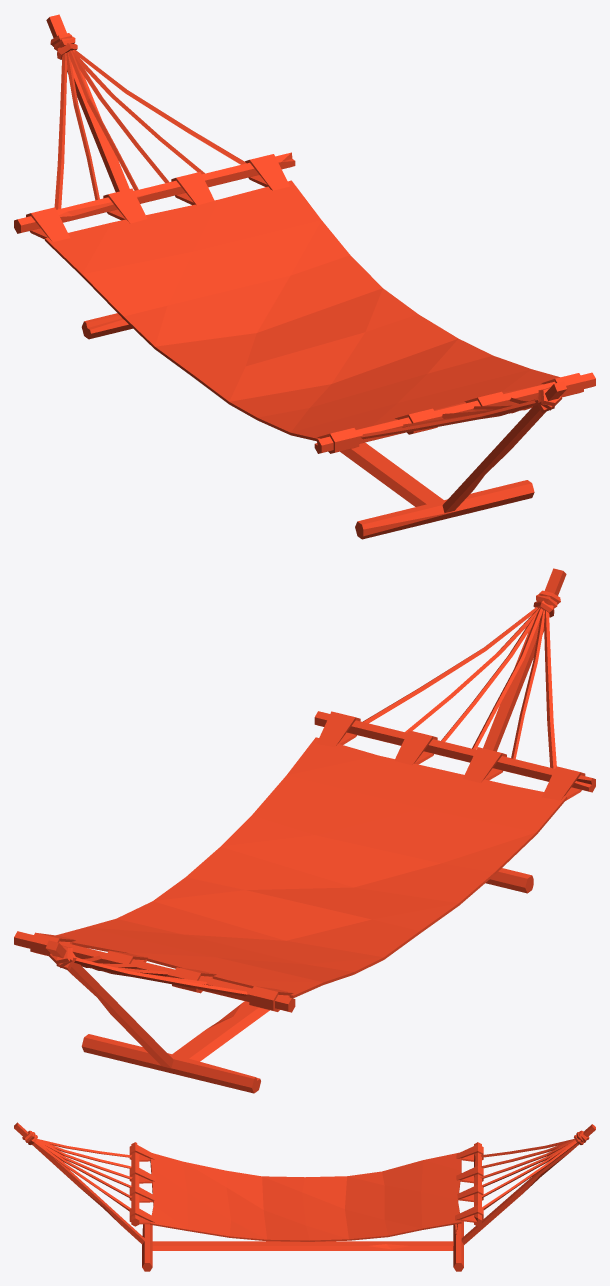
File: SM_Lounger_A_City.fbx
The picture shows the model from 3 angles, top to bottom: view 1: azimuth 30°, elevation 25°; view 2: azimuth 150°, elevation 25°; view 3: azimuth 270°, elevation 25°; orthographic projection. The views are drawn at different scales.
Parts seen in each view (by area): view 1: SM_Lounger_A_City; view 2: SM_Lounger_A_City; view 3: SM_Lounger_A_City.
Boxes of the visible parts, <box> form: SM_Lounger_A_City: <box>14,14,595,539</box>; SM_Lounger_A_City: <box>14,568,595,1093</box>; SM_Lounger_A_City: <box>14,1122,595,1271</box>.
Size of the model in its own units: 1.12 by 0.8509 by 3.62.
